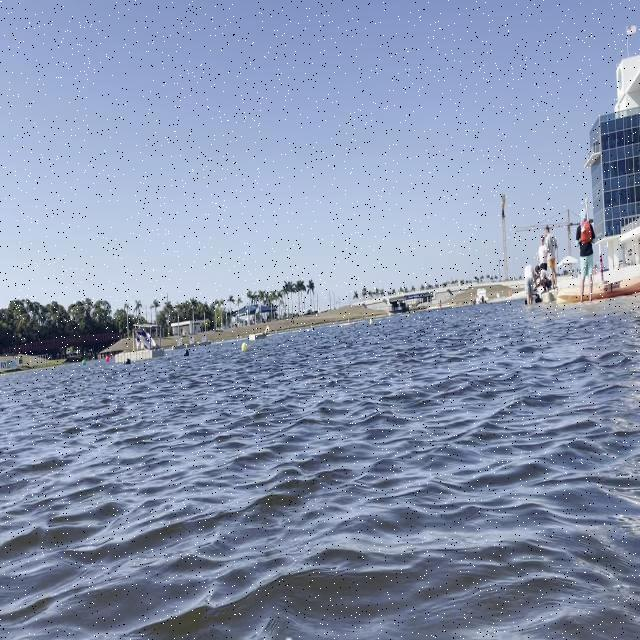buoy: (242, 343, 248, 353), (125, 358, 132, 366), (184, 350, 189, 358), (82, 359, 86, 366), (106, 356, 110, 362), (370, 318, 372, 324)
